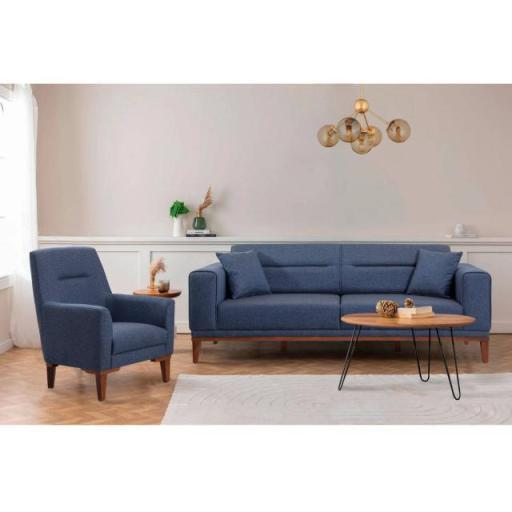sofa: (189, 188, 498, 386), (10, 212, 186, 446)
